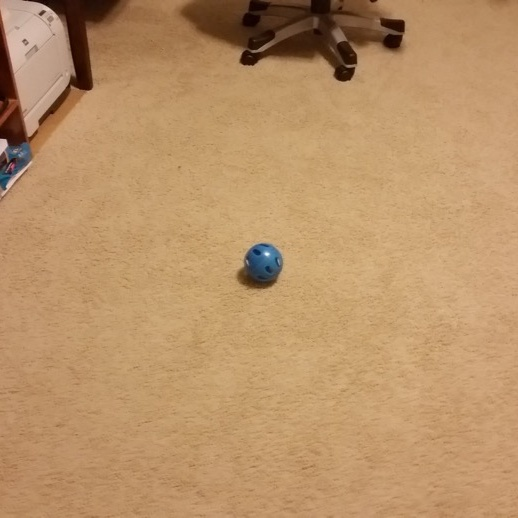blueball: (240, 239, 286, 287)
